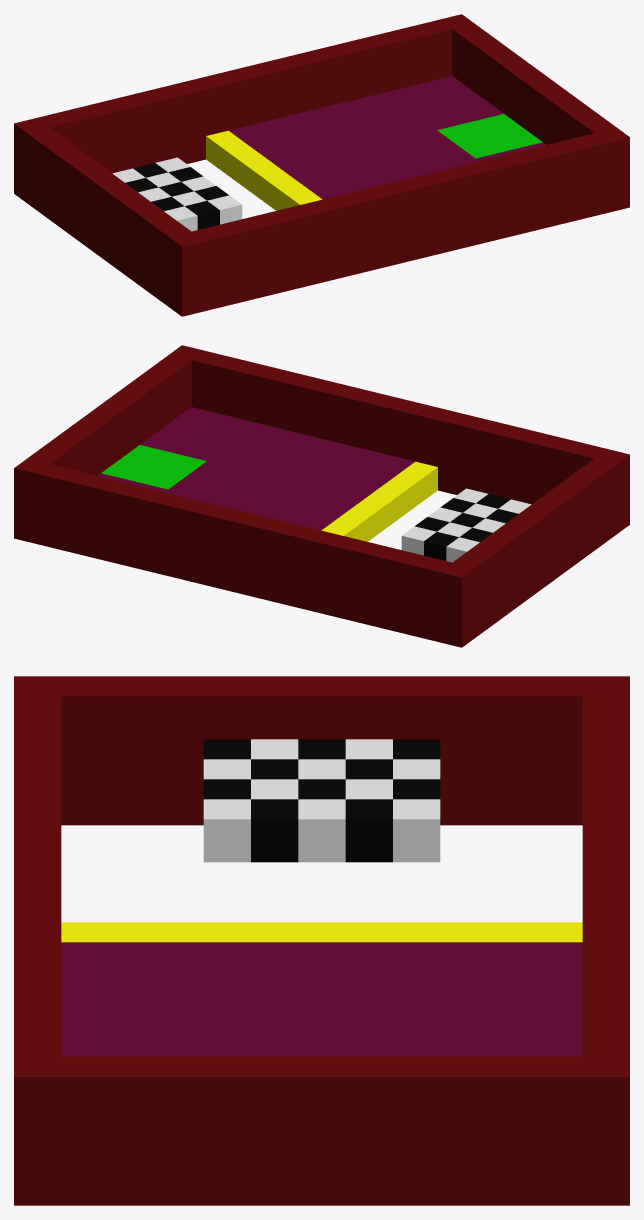
File: maze_lvl_3.obj
3 renders of one model, top to bottom at view 1: azimuth 30°, elevation 25°; view 2: azimuth 150°, elevation 25°; view 3: azimuth 270°, elevation 25°, orthographic. The views are drawn at different scales.
Bounding box in the file's own units: 2 × 0.3 × 1.3.
1 material, 1 textured.
